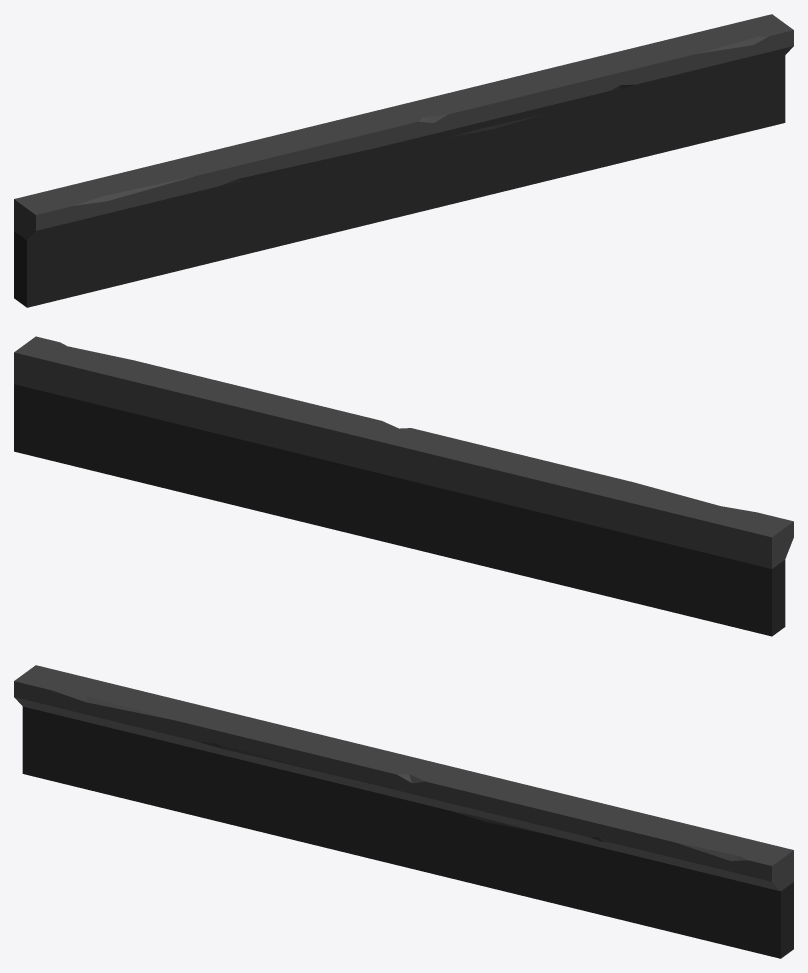
Rendered from SW_ENV_RailTunnel_Wall_Ledge_A_10m.fbx.
3 views of the same model, one above another, from view 1: azimuth 30°, elevation 25°; view 2: azimuth 150°, elevation 25°; view 3: azimuth 330°, elevation 25° (orthographic).
Visible parts, largest first — view 1: SW_ENV_RailTunnel_Wall_Ledge_A_10m; view 2: SW_ENV_RailTunnel_Wall_Ledge_A_10m; view 3: SW_ENV_RailTunnel_Wall_Ledge_A_10m.
Boxes of the visible parts, x1=… form: SW_ENV_RailTunnel_Wall_Ledge_A_10m: x1=14, y1=14, x2=793, y2=307; SW_ENV_RailTunnel_Wall_Ledge_A_10m: x1=14, y1=336, x2=793, y2=636; SW_ENV_RailTunnel_Wall_Ledge_A_10m: x1=14, y1=665, x2=793, y2=958.
Size of the model in its own units: 1000 by 125 by 50.
